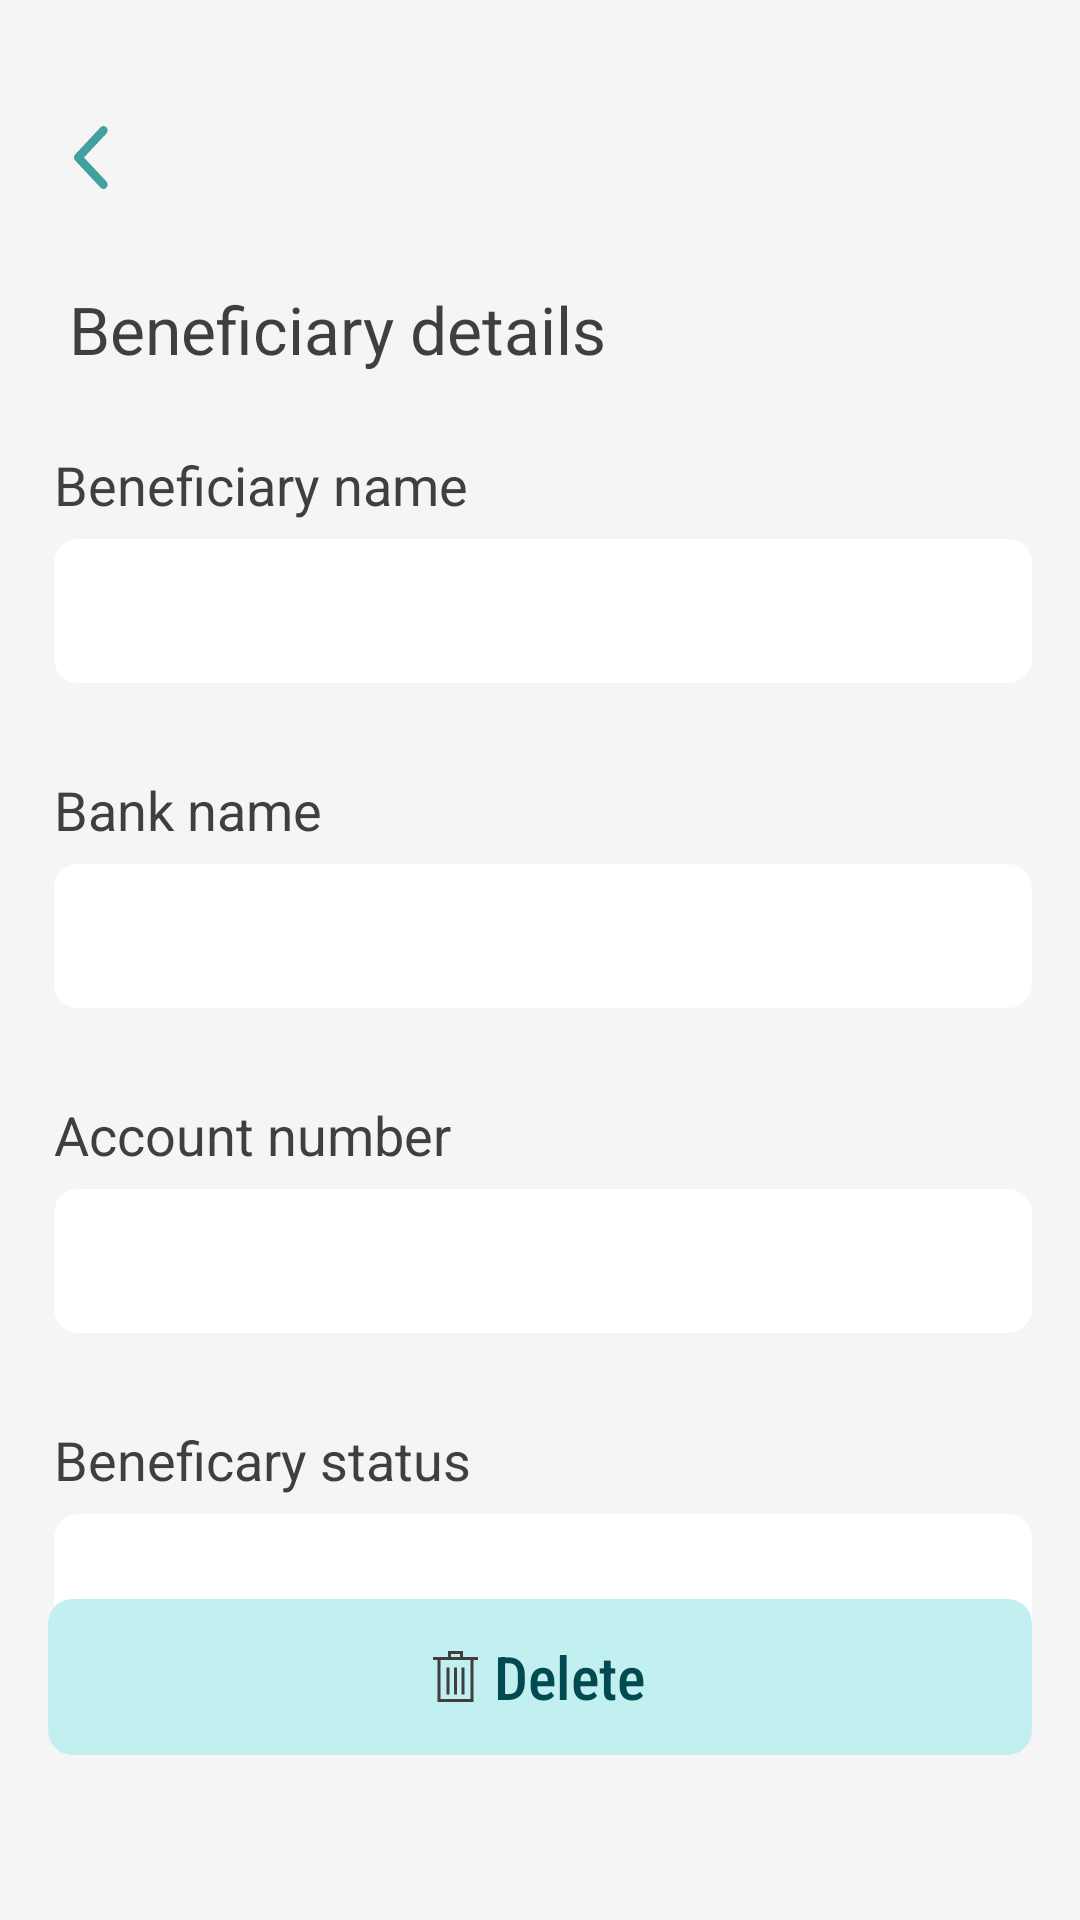

Point at icon controls on the screen. Image size 1080 x 1920, points as (x=x, y=y).
back: (x=91, y=157)
